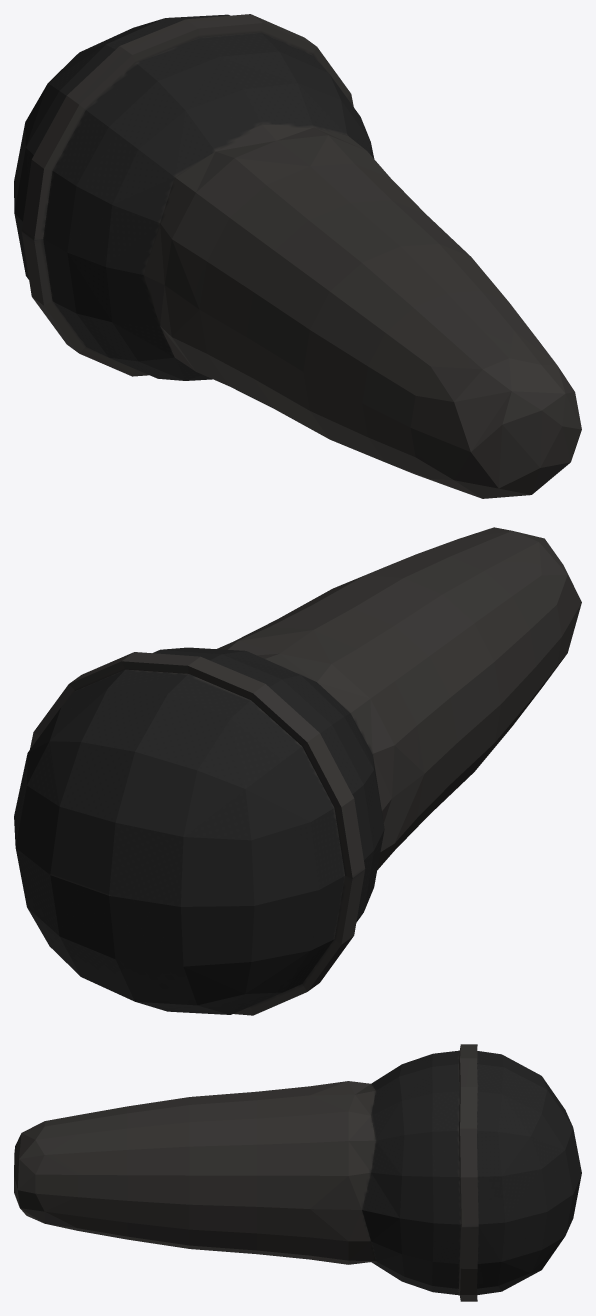
File: mod_mikrofon.fbx
3 renders of one model, top to bottom at view 1: azimuth 30°, elevation 25°; view 2: azimuth 150°, elevation 25°; view 3: azimuth 270°, elevation 25°, orthographic. The views are drawn at different scales.
Visible parts, largest first — view 1: mikrofon_mod; view 2: mikrofon_mod; view 3: mikrofon_mod.
Boxes of the visible parts, x1,y1,x2,y2 form: mikrofon_mod: [14, 14, 581, 498]; mikrofon_mod: [14, 527, 581, 1015]; mikrofon_mod: [14, 1044, 581, 1301].
Bounding box in the file's own units: 1.5 × 1.49 × 3.35.
Materials: 1 (1 with a texture image).
